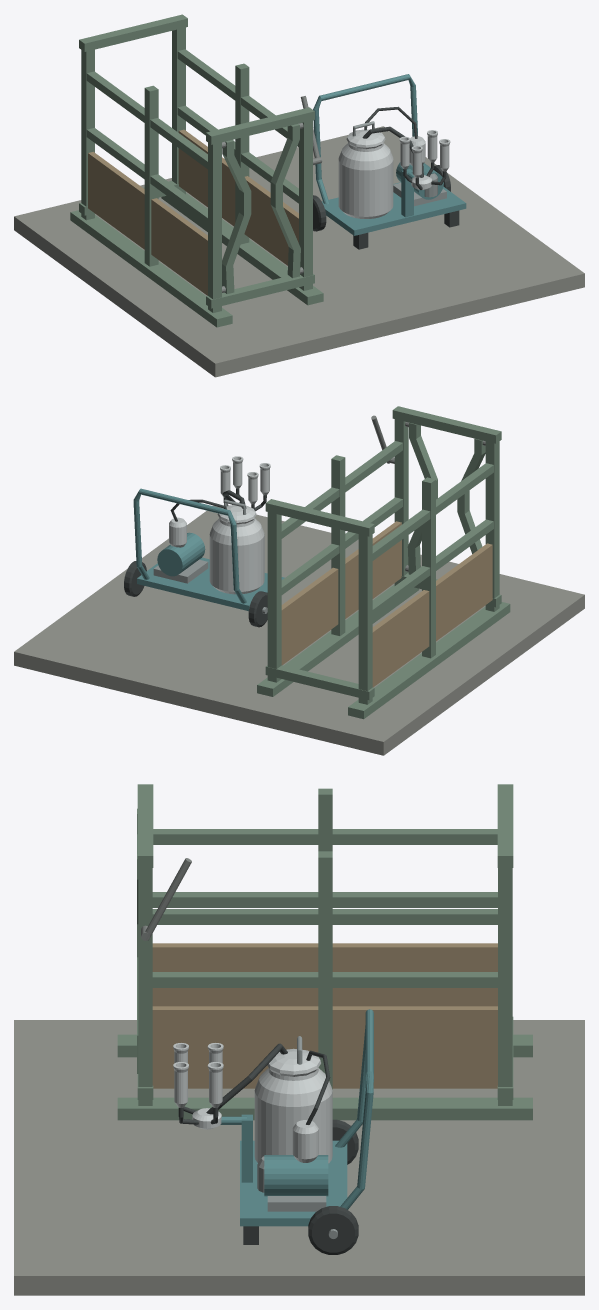
3 renders of one model, top to bottom at view 1: azimuth 30°, elevation 25°; view 2: azimuth 150°, elevation 25°; view 3: azimuth 270°, elevation 25°, orthographic. The views are drawn at different scales.
Parts seen in each view (by area): view 1: SceneOnly_ContinuousFloor, cart__WholeUprightShoulderedCollectionCanExterior, gate__WholeLowerKickBoard1_2, gate__WholeLowerKickBoard1_1, gate__WholeLongGroundSkid1, cart__WholeLowTrolleyBed, gate__WholeLowerKickBoard2_1, gate__WholePortalPost1_1, gate__WholeLowerKickBoard2_2, gate__WholePortalPost2_1, gate__WholePortalPost1_2, gate__WholeLongGroundSkid2 (+15 smaller); view 2: SceneOnly_ContinuousFloor, gate__WholeLowerKickBoard1_2, gate__WholeLowerKickBoard2_2, gate__WholeLowerKickBoard1_1, cart__WholeUprightShoulderedCollectionCanExterior, gate__WholeLongGroundSkid1, gate__WholePortalPost1_3, gate__WholePortalPost2_3, gate__WholeLowerKickBoard2_1, gate__WholeLongGroundSkid2, cart__WholeLowTrolleyBed, gate__WholePortalPost1_2 (+19 smaller); view 3: SceneOnly_ContinuousFloor, gate__WholeLowerKickBoard2_2, gate__WholeLowerKickBoard2_1, gate__WholeLowerKickBoard1_1, gate__WholeLowerKickBoard1_2, gate__WholeLongGroundSkid2, cart__WholeUprightShoulderedCollectionCanExterior, gate__WholeUpperSideRail2_0.86, gate__WholeUpperSideRail1_1.37, gate__WholeUpperSideRail1_0.86, gate__WholeUpperSideRail2_1.37, gate__WholePortalPost2_3 (+16 smaller).
Boxes of the visible parts, x1,y1,x2,y2 form: SceneOnly_ContinuousFloor: [14, 126, 584, 377]; cart__WholeUprightShoulderedCollectionCanExterior: [338, 143, 393, 218]; gate__WholeLowerKickBoard1_2: [88, 151, 144, 249]; gate__WholeLowerKickBoard1_1: [151, 198, 207, 295]; gate__WholeLongGroundSkid1: [70, 210, 232, 327]; cart__WholeLowTrolleyBed: [322, 182, 466, 235]; gate__WholeLowerKickBoard2_1: [244, 176, 298, 265]; gate__WholePortalPost1_1: [208, 142, 221, 312]; gate__WholeLowerKickBoard2_2: [178, 129, 235, 226]; gate__WholePortalPost2_1: [299, 120, 312, 290]; gate__WholePortalPost1_2: [144, 85, 158, 266]; gate__WholeLongGroundSkid2: [161, 193, 323, 305]; SceneOnly_ContinuousFloor: [14, 505, 584, 755]; gate__WholeLowerKickBoard1_2: [372, 590, 429, 687]; gate__WholeLowerKickBoard2_2: [281, 567, 338, 665]; gate__WholeLowerKickBoard1_1: [436, 543, 492, 641]; cart__WholeUprightShoulderedCollectionCanExterior: [209, 518, 264, 594]; gate__WholeLongGroundSkid1: [348, 602, 510, 719]; gate__WholePortalPost1_3: [358, 534, 372, 704]; gate__WholePortalPost2_3: [267, 512, 281, 682]; gate__WholeLowerKickBoard2_1: [345, 521, 401, 618]; gate__WholeLongGroundSkid2: [257, 584, 419, 696]; cart__WholeLowTrolleyBed: [137, 557, 284, 610]; gate__WholePortalPost1_2: [422, 477, 435, 658]; SceneOnly_ContinuousFloor: [14, 1020, 584, 1295]; gate__WholeLowerKickBoard2_2: [332, 1006, 497, 1088]; gate__WholeLowerKickBoard2_1: [152, 1006, 318, 1088]; gate__WholeLowerKickBoard1_1: [152, 943, 318, 1006]; gate__WholeLowerKickBoard1_2: [332, 943, 497, 1006]; gate__WholeLongGroundSkid2: [117, 1097, 532, 1120]; cart__WholeUprightShoulderedCollectionCanExterior: [254, 1068, 332, 1163]; gate__WholeUpperSideRail2_0.86: [152, 972, 497, 987]; gate__WholeUpperSideRail1_1.37: [153, 829, 497, 844]; gate__WholeUpperSideRail1_0.86: [152, 909, 497, 924]; gate__WholeUpperSideRail2_1.37: [152, 892, 497, 907]; gate__WholePortalPost2_3: [498, 868, 512, 1105].
Bounding box in the file's own units: 3.5 × 1.81 × 3.3.
